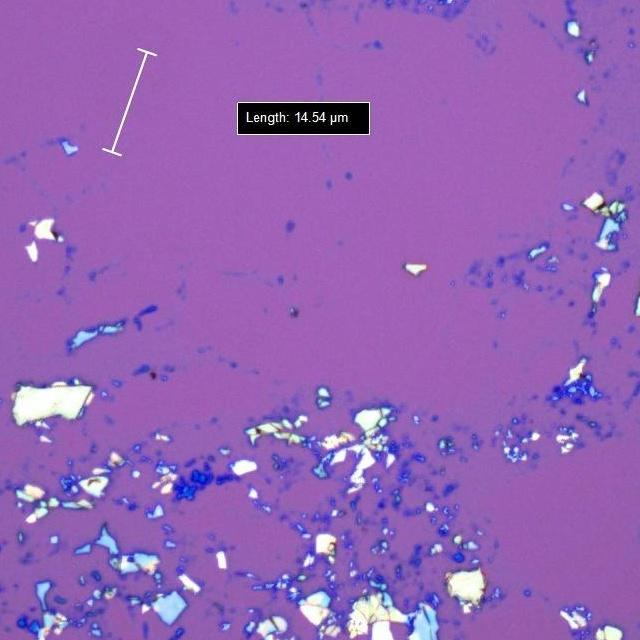monolayer-eWW4: (286, 219, 296, 234)
